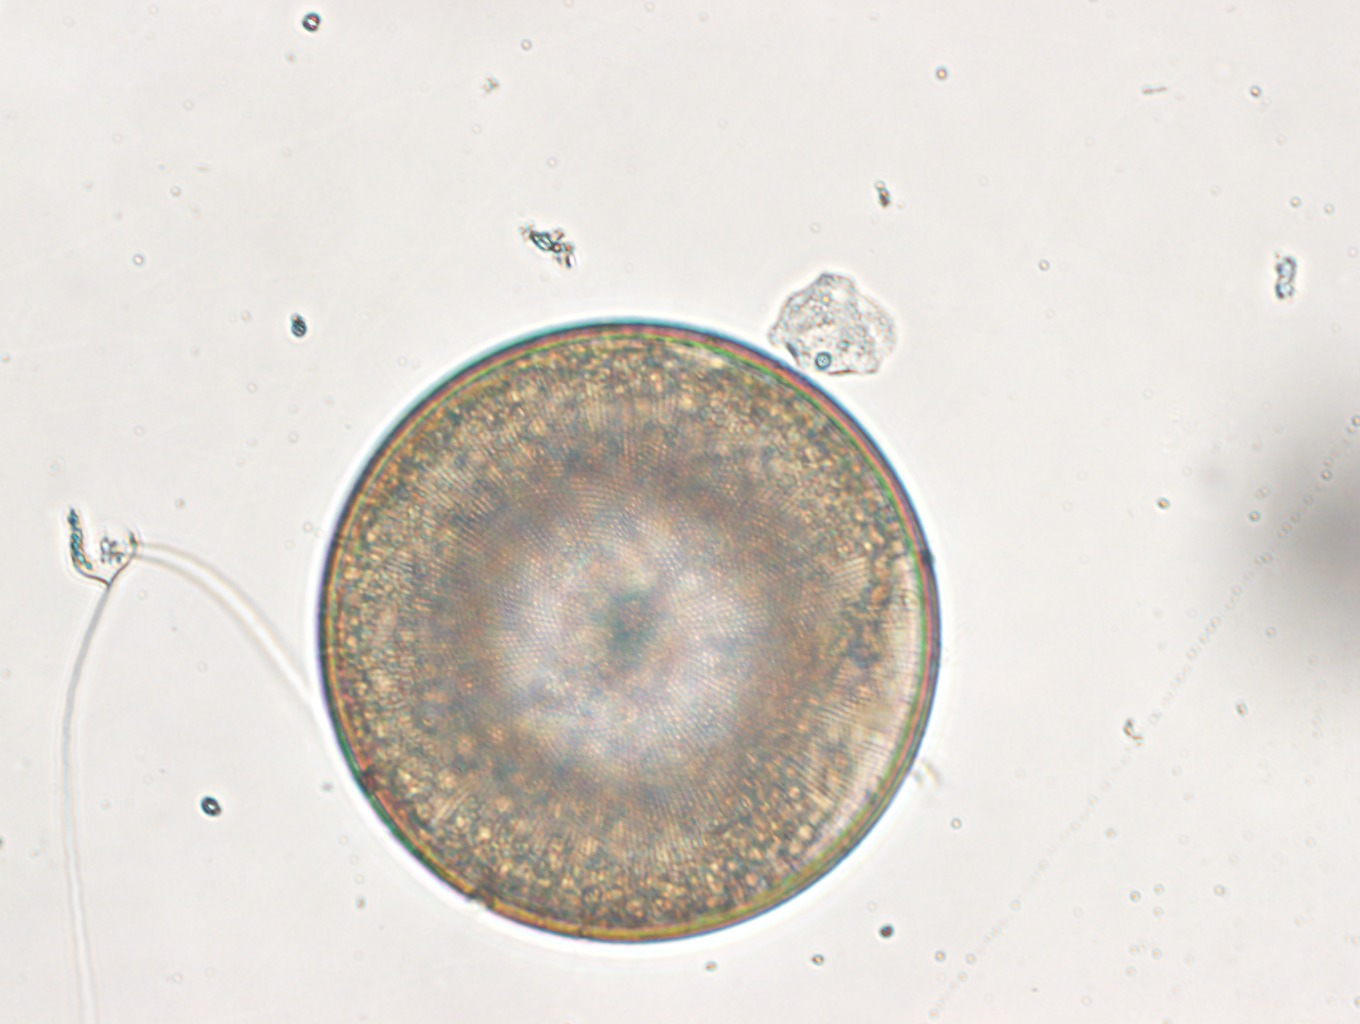coscinodiscus: (316, 319, 943, 945)
